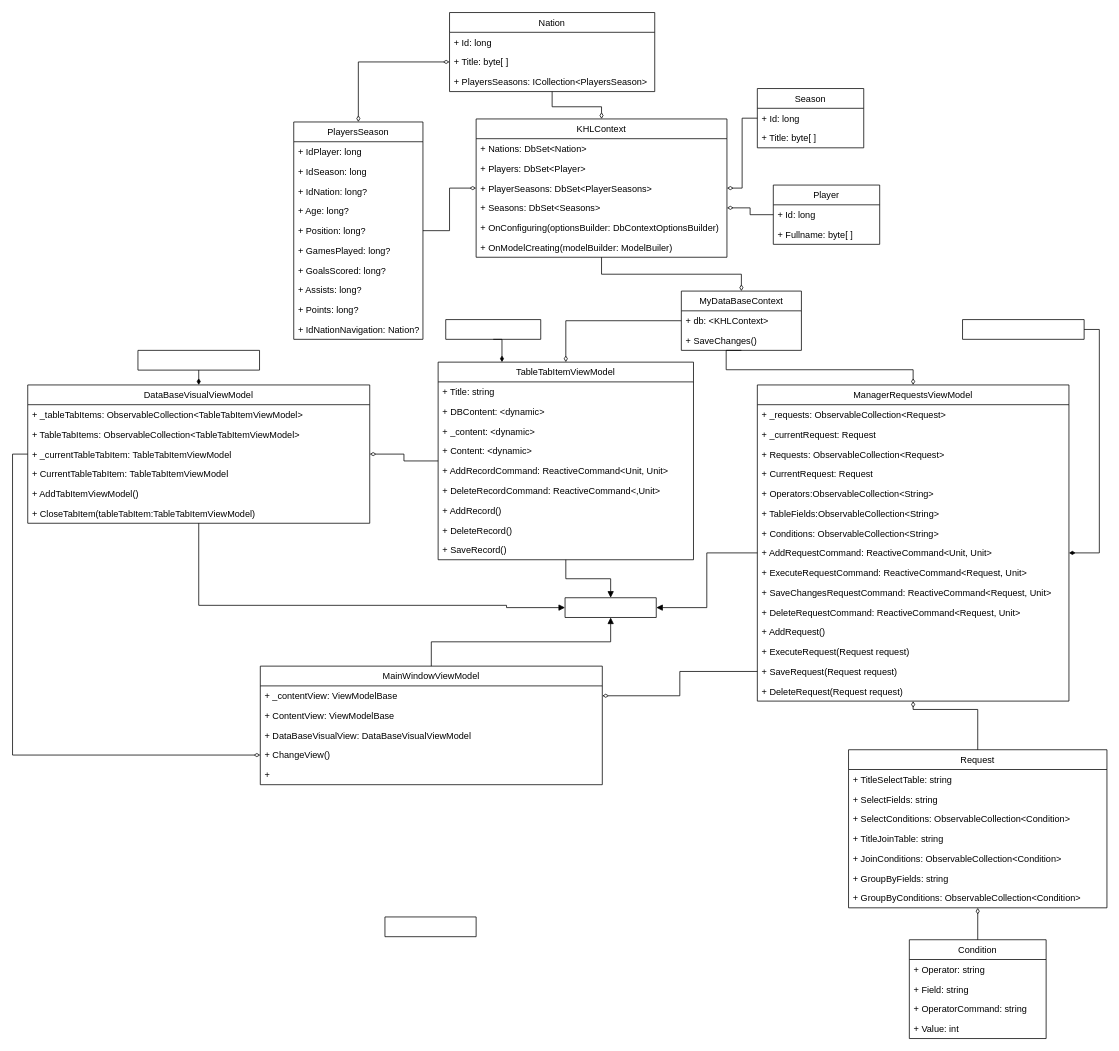
Some shapes in this 1119 by 1051 pixel diagram are drawn without their labels. Here are the shapes that lost their labels. From the top down, the centre of each, then its label:
At [493,329]: "TableTabItemView".
At [1023,329]: "ManagerRequestsView".
At [198,360]: "DataBaseVisualView".
At [610,607]: "ViewModelBase".
At [430,926]: "MainWIndowView".
